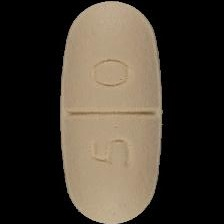68084-291: (0, 0, 224, 224)
